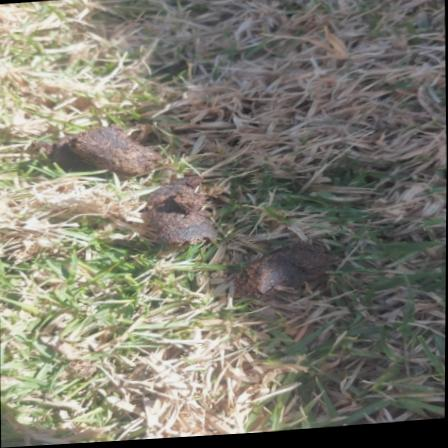dog-poop: (222, 237, 332, 309), (62, 125, 169, 188), (148, 171, 219, 258)
